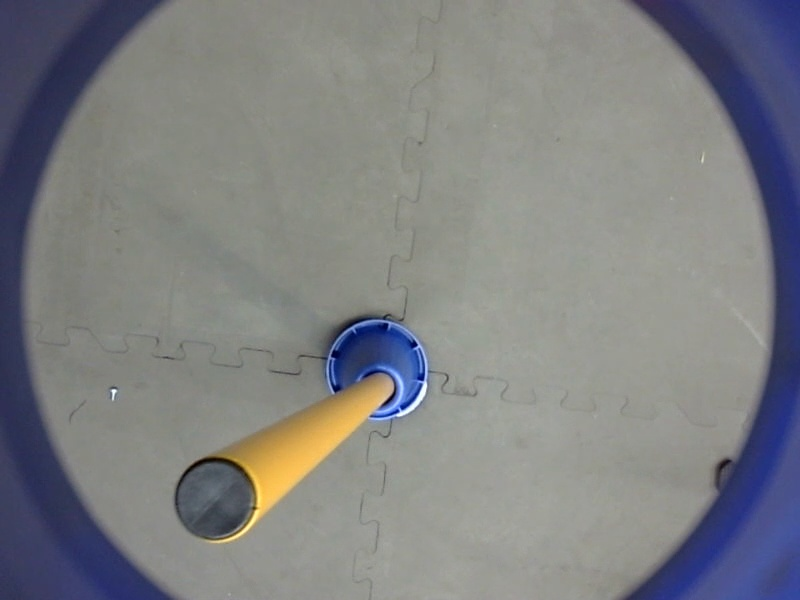tip: (166, 448, 270, 552)
